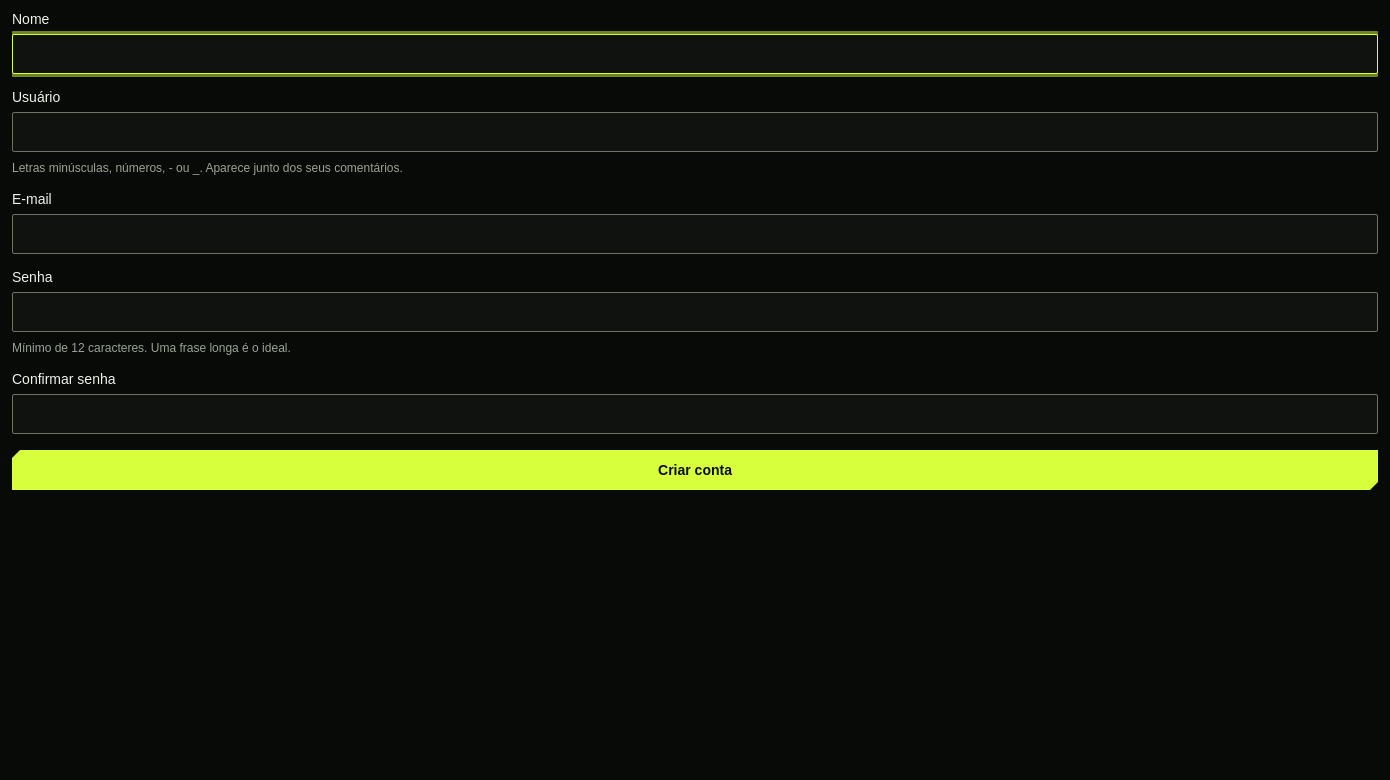
Test: <SignupForm /> (conta de leitor) › erro do servidor aparece em alerta, sem sair da tela
In the field labelled "Nome": {"x": 695, "y": 54} [12,34,1378,74], type "Léo"
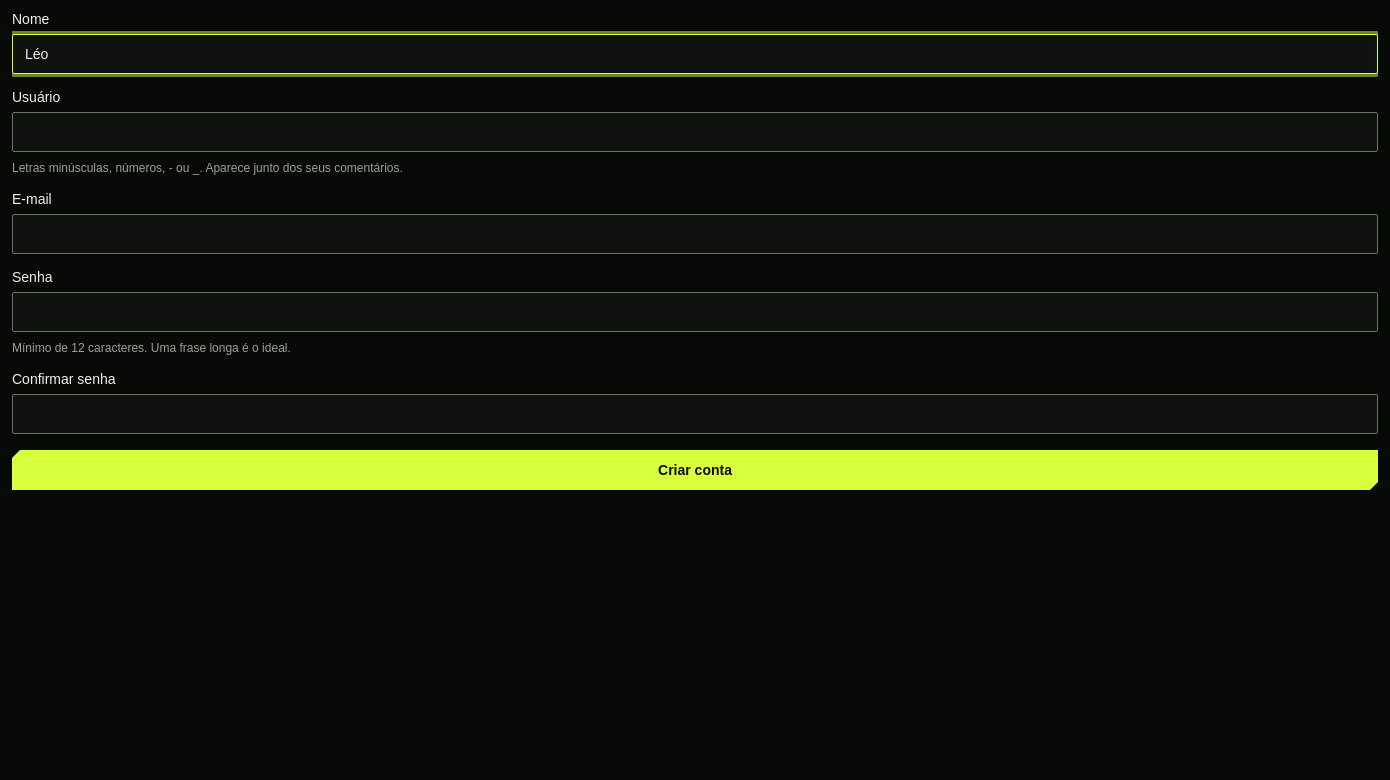
In the field labelled "Usuário": {"x": 695, "y": 132} [12,112,1378,152], type "leo"
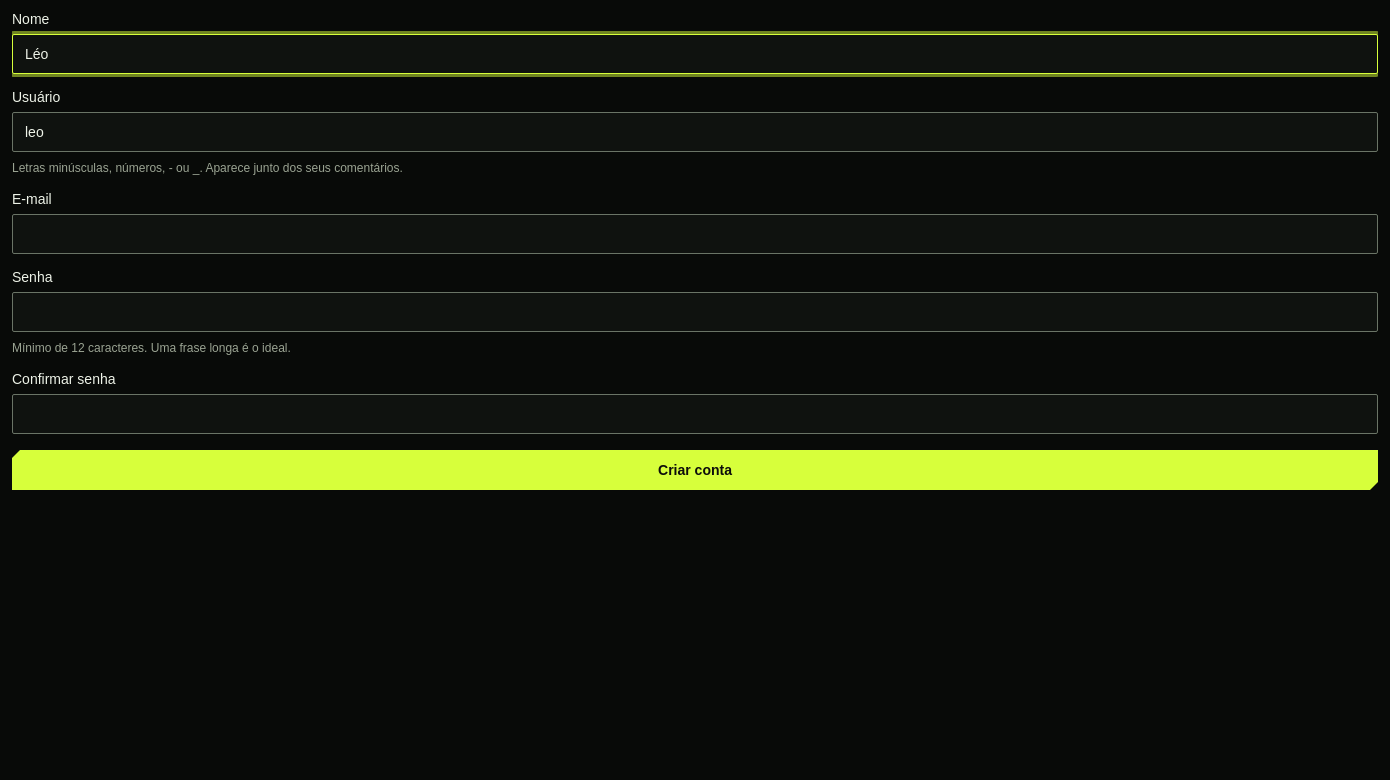
In the field labelled "E-mail": {"x": 695, "y": 234} [12,214,1378,254], type "leo@x.com"
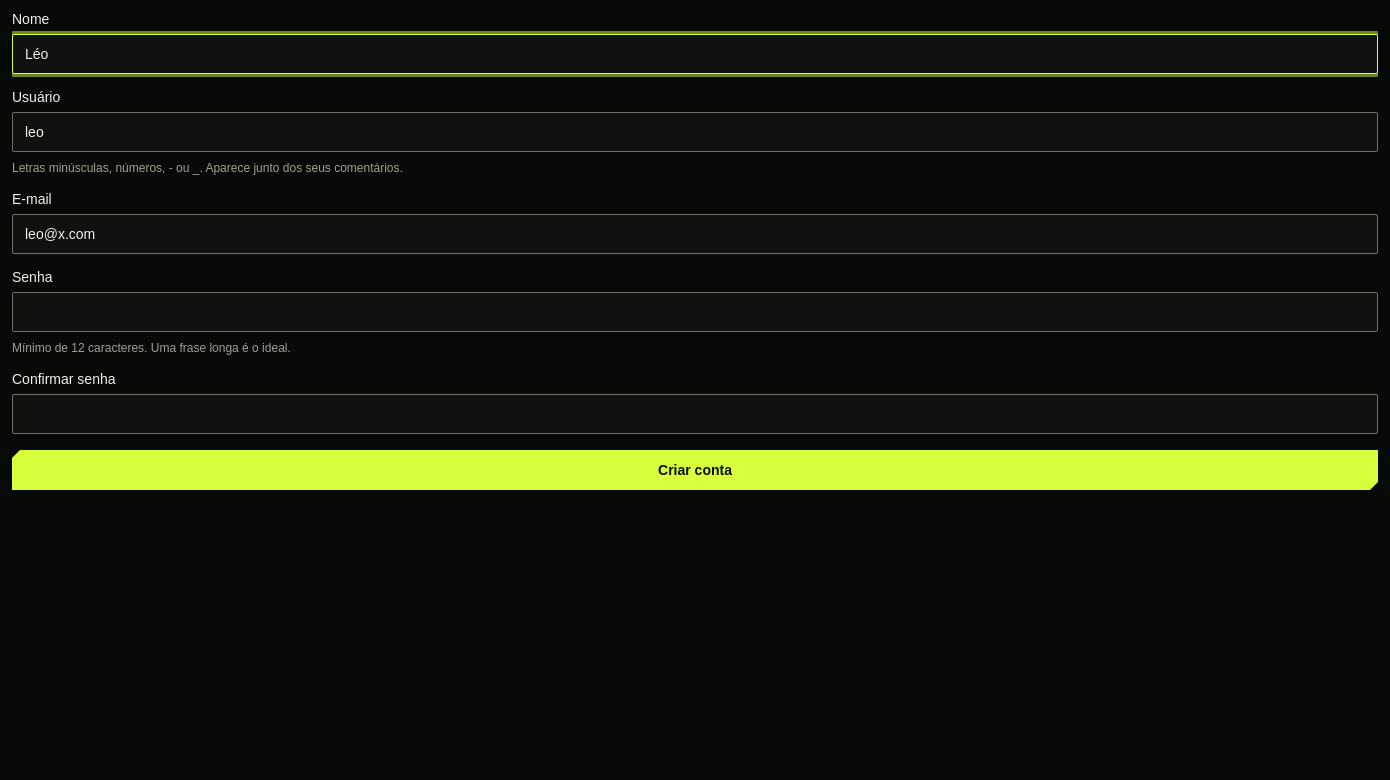
In the password field labelled "Senha": {"x": 695, "y": 312} [12,292,1378,332], type "frase-senha-longa"
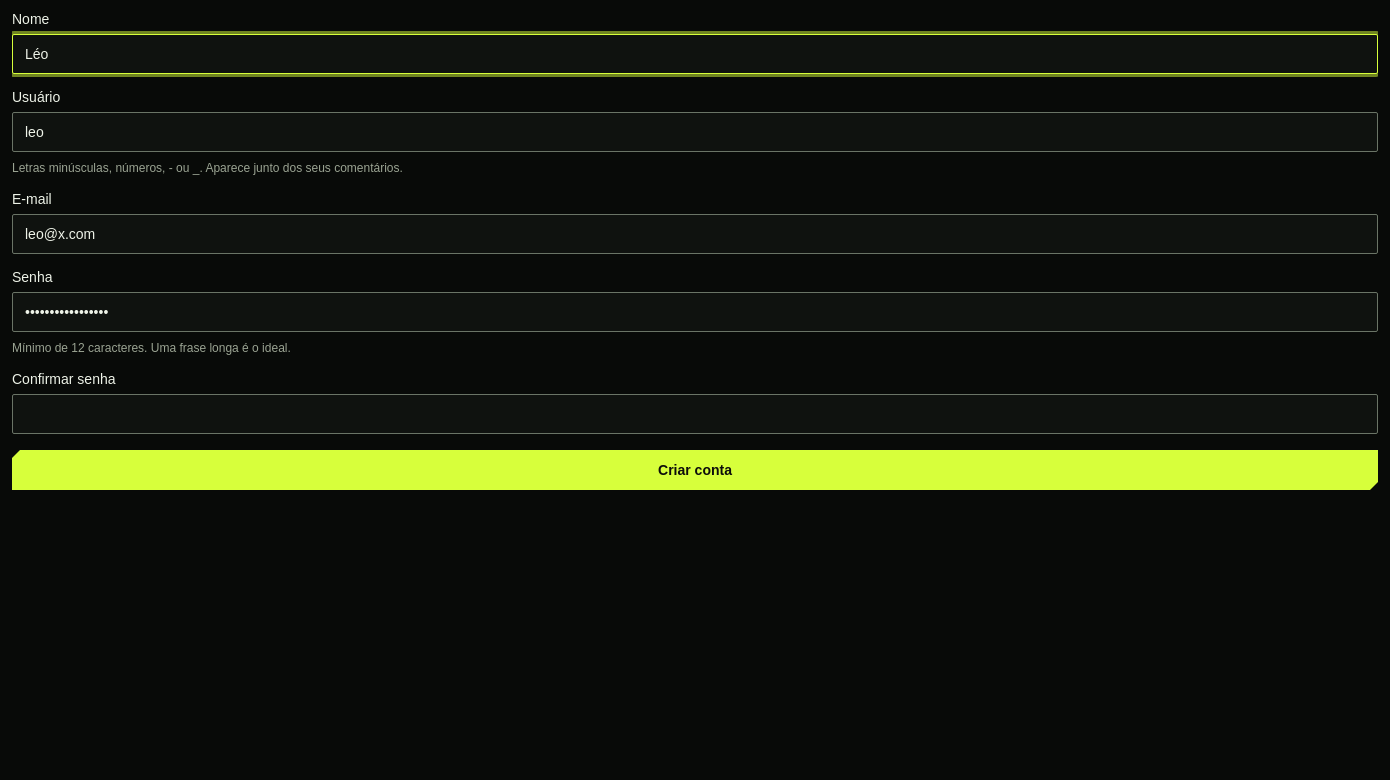
In the password field labelled "Confirmar senha": {"x": 695, "y": 414} [12,394,1378,434], type "frase-senha-longa"
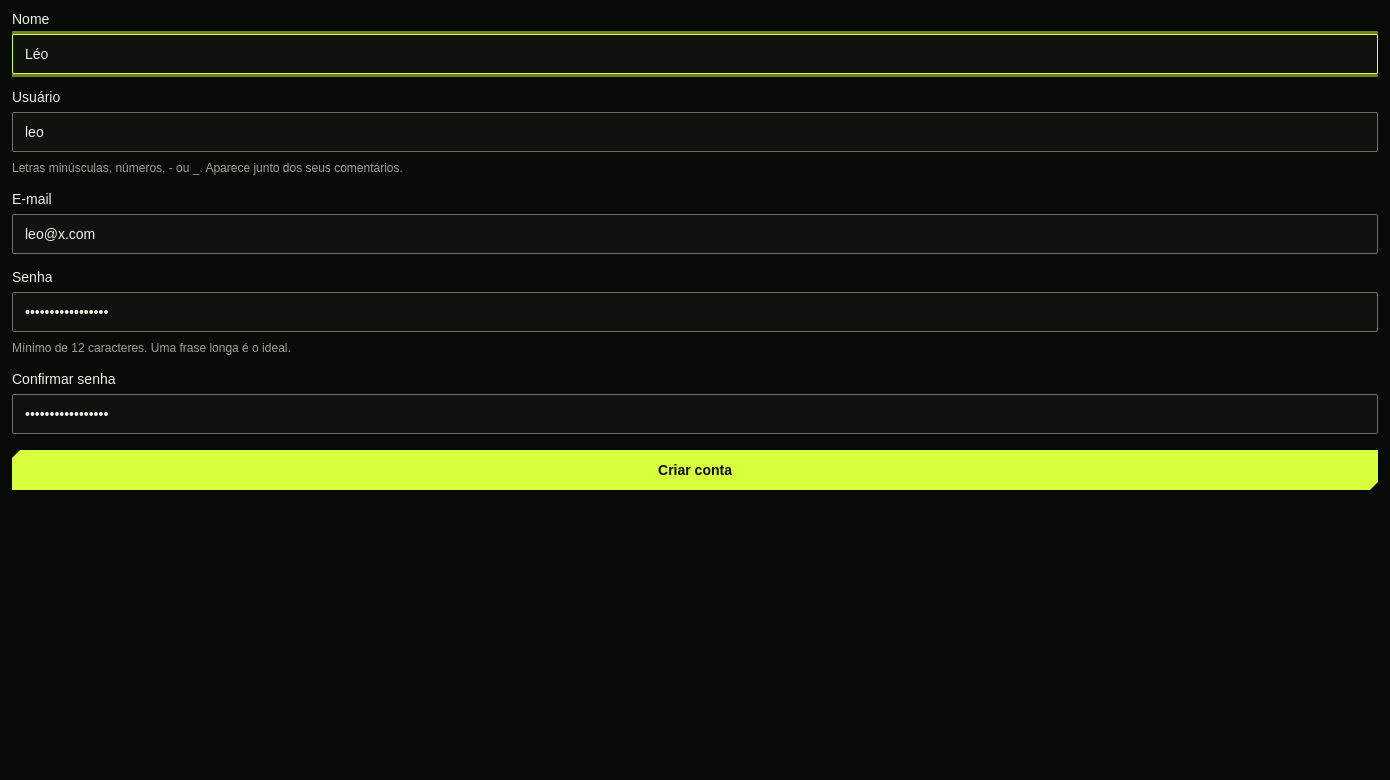
Click the button "Criar conta": {"x": 695, "y": 470} [12,450,1378,490]
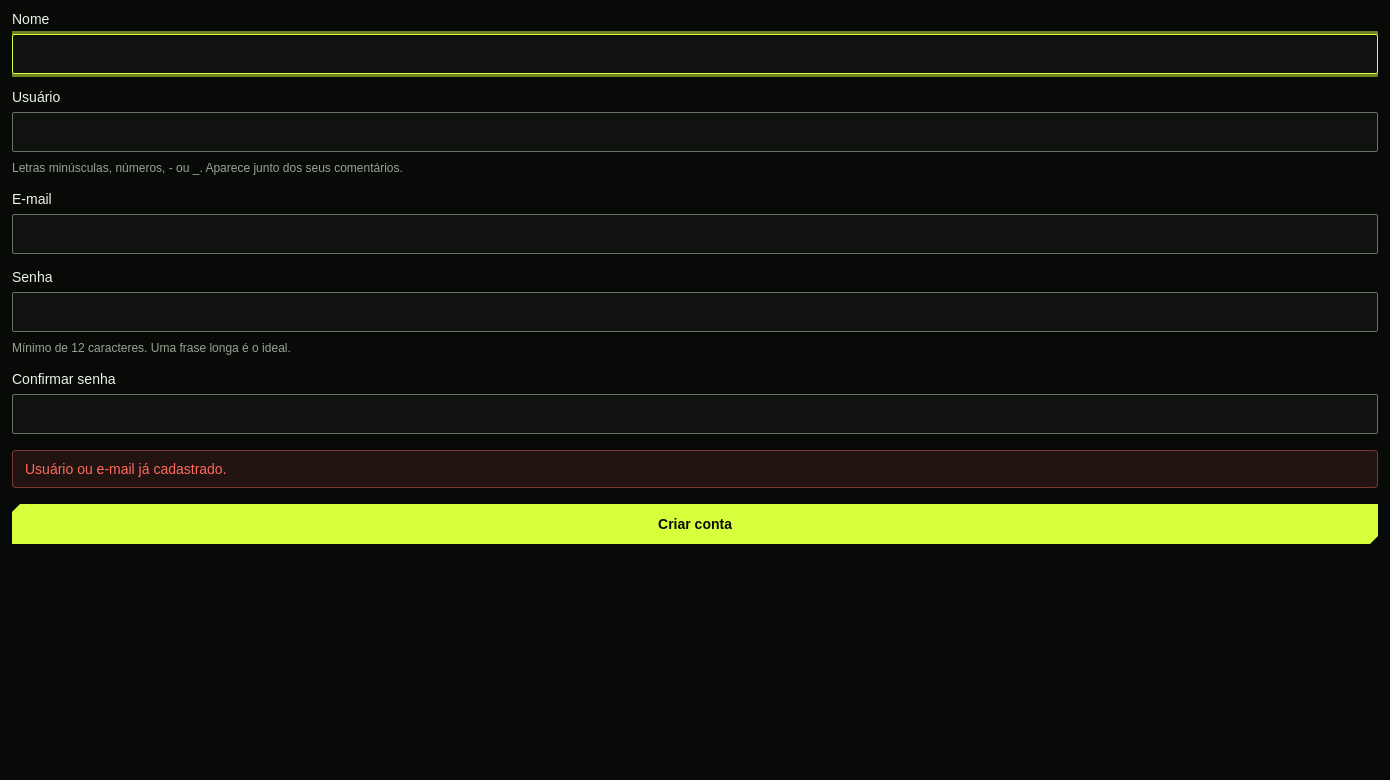
Result: the message reads "Usuário ou e-mail já cadastrado." at [25,461,226,477]
